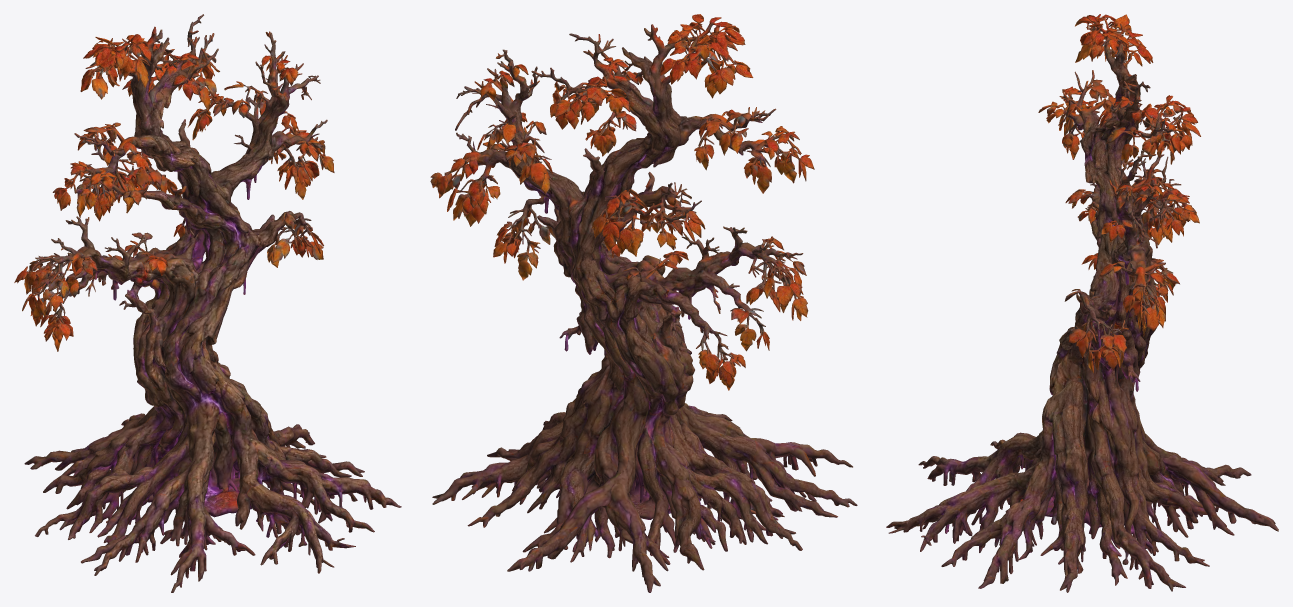
The model's file is tree-gnarled.glb.
3 renders of one model, left to right at view 1: azimuth 30°, elevation 25°; view 2: azimuth 150°, elevation 25°; view 3: azimuth 270°, elevation 25°, orthographic. The views are drawn at different scales.
Parts seen in each view (by area): view 1: Mesh_0; view 2: Mesh_0; view 3: Mesh_0.
Boxes of the visible parts, box(x1,y1,x2,y2) form: Mesh_0: box(14, 14, 401, 592); Mesh_0: box(430, 14, 857, 592); Mesh_0: box(886, 14, 1278, 592).
Bounding box in the file's own units: 1.37 × 1.91 × 1.44.
Materials: 1 (1 with a texture image).
